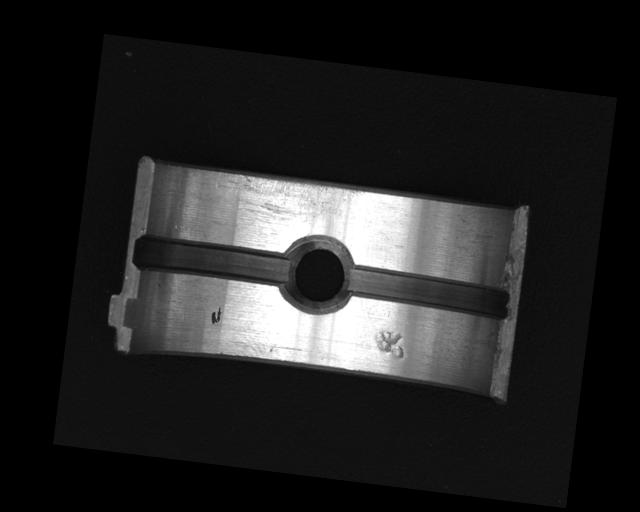blot: (209, 305, 221, 324)
bruise: (372, 328, 407, 360)
gap: (343, 262, 513, 324), (130, 233, 294, 289)
hole: (278, 231, 359, 319)
scratch: (208, 171, 365, 235)
